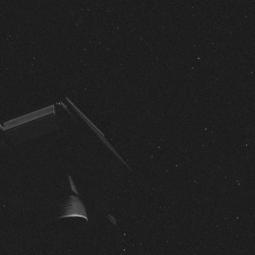cheops: (5, 87, 131, 228)
